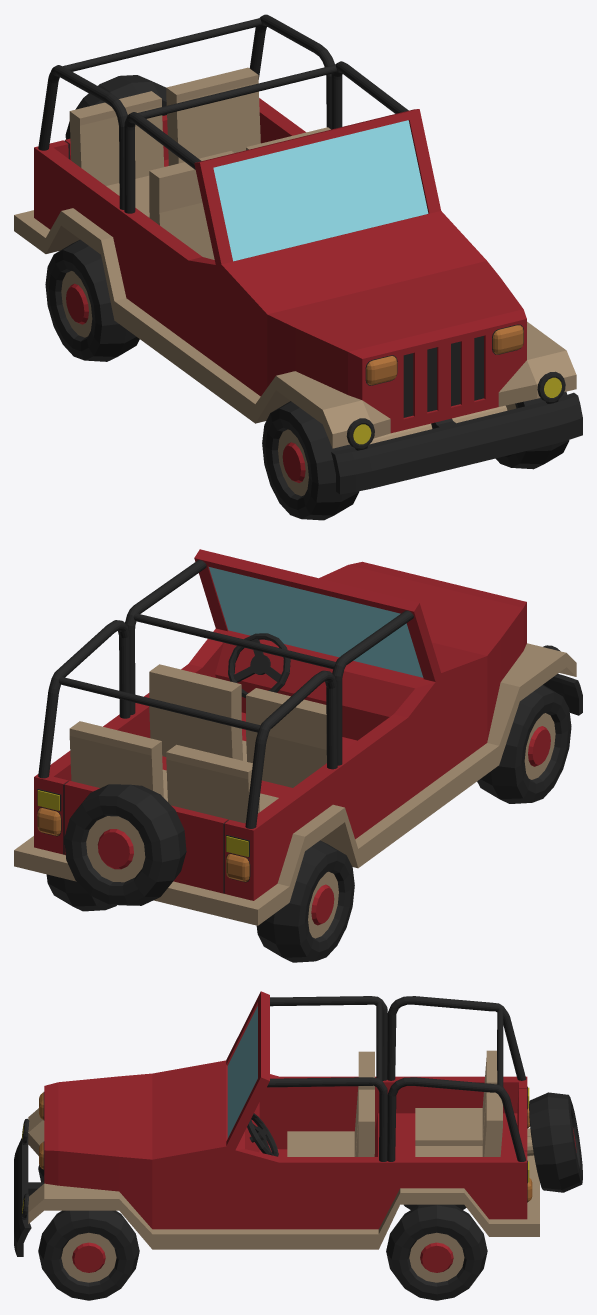
Rendered from jeep.glb.
3 renders of one model, top to bottom at view 1: azimuth 30°, elevation 25°; view 2: azimuth 150°, elevation 25°; view 3: azimuth 270°, elevation 25°, orthographic. The views are drawn at different scales.
Visible parts, largest first — view 1: Jeep; view 2: Jeep; view 3: Jeep.
Part boxes in pixels (x1,y1,x2,y2): Jeep: (14,14,582,520); Jeep: (14,549,582,962); Jeep: (14,991,582,1300).
Bounding box in the file's own units: 1.08 × 1.12 × 2.6.
